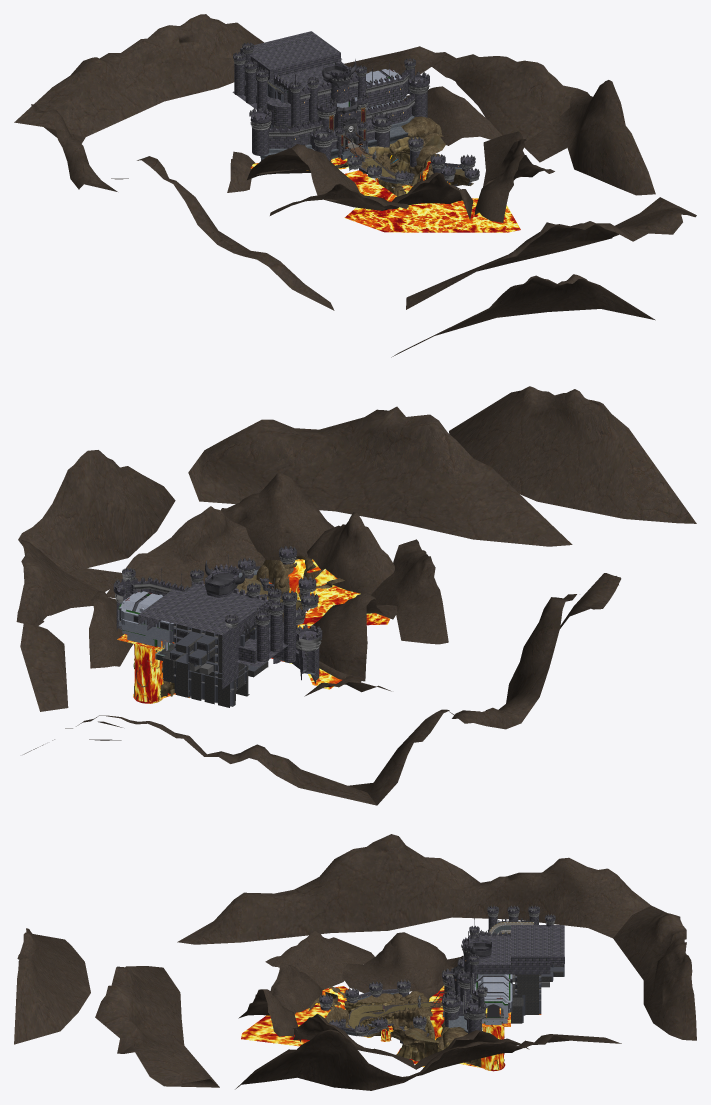
Rendered from track10.glb.
3 renders of one model, top to bottom at view 1: azimuth 30°, elevation 25°; view 2: azimuth 150°, elevation 25°; view 3: azimuth 270°, elevation 25°, orthographic. The views are drawn at different scales.
Visible parts, largest first — view 1: Object_13, Object_44, Object_45, Object_63, Object_25, Object_70, Object_24, Object_11, Object_42, Object_29, Object_30; view 2: Object_13, Object_44, Object_45, Object_63, Object_46, Object_47, Object_43, Object_25, Object_70, Object_24; view 3: Object_13, Object_44, Object_63, Object_70, Object_45, Object_25, Object_46, Object_43, Object_11, Object_72, Object_24, Object_29 (+1 smaller).
Boxes of the visible parts, x1,y1,x2,y2 form: Object_13: (14, 14, 696, 357); Object_44: (232, 31, 479, 186); Object_45: (233, 44, 479, 184); Object_63: (250, 156, 520, 232); Object_25: (233, 46, 479, 184); Object_70: (337, 116, 470, 191); Object_24: (234, 42, 478, 187); Object_11: (368, 137, 417, 196); Object_42: (260, 115, 469, 192); Object_29: (245, 61, 447, 167); Object_30: (246, 58, 459, 178); Object_13: (16, 386, 696, 805); Object_44: (113, 546, 322, 689); Object_45: (113, 548, 322, 680); Object_63: (117, 559, 389, 703); Object_46: (156, 624, 267, 707); Object_47: (155, 622, 270, 706); Object_43: (118, 591, 173, 650); Object_25: (115, 555, 321, 654); Object_70: (161, 555, 344, 696); Object_24: (114, 545, 321, 650); Object_13: (14, 834, 696, 1090); Object_44: (319, 906, 564, 1043); Object_63: (241, 985, 541, 1071); Object_70: (308, 986, 480, 1065); Object_45: (319, 907, 555, 1040); Object_25: (320, 909, 554, 1036); Object_46: (469, 964, 563, 1023); Object_43: (474, 974, 512, 1024); Object_11: (344, 1000, 481, 1067); Object_72: (349, 1003, 430, 1035); Object_24: (320, 905, 554, 1031); Object_29: (350, 918, 535, 1029).
Size of what is drawn, in the model's own units: 427 by 108 by 592.
54 materials, 54 textured.
